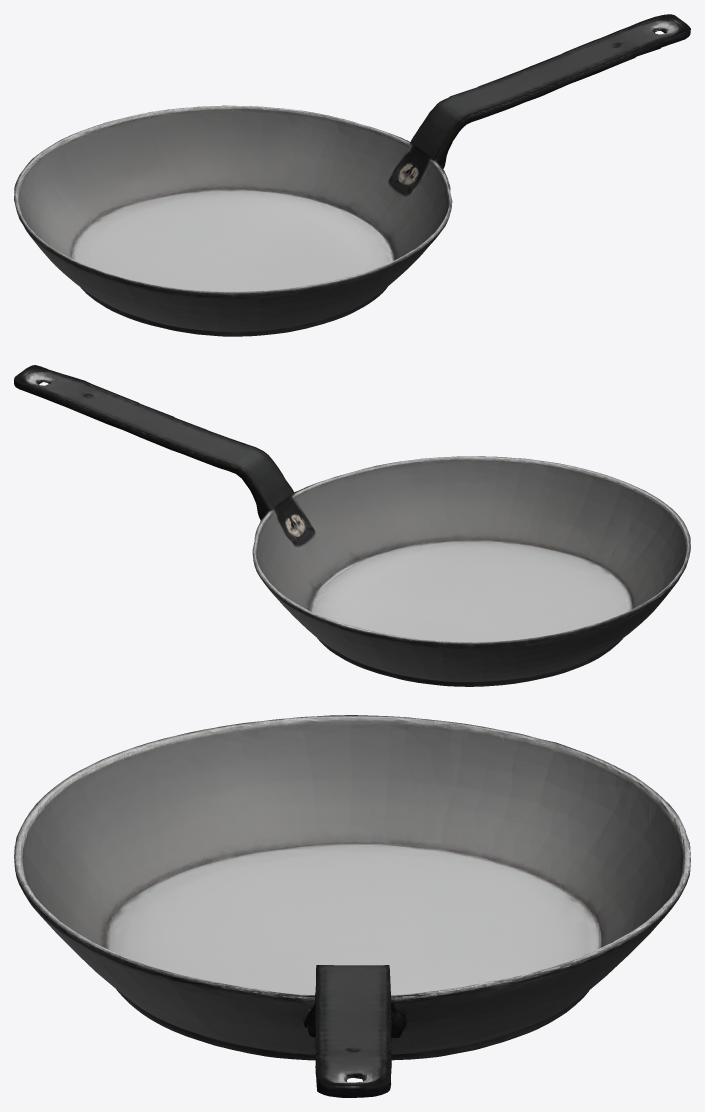
Rendered from pan1.glb.
3 renders of one model, top to bottom at view 1: azimuth 30°, elevation 25°; view 2: azimuth 150°, elevation 25°; view 3: azimuth 270°, elevation 25°, orthographic. The views are drawn at different scales.
Parts seen in each view (by area): view 1: world; view 2: world; view 3: world.
Boxes of the visible parts, x1=… form: world: x1=14, y1=14, x2=690, y2=336; world: x1=14, y1=365, x2=690, y2=686; world: x1=14, y1=715, x2=690, y2=1097.
Size of the model in its own units: 0.9999 by 0.2059 by 0.6005.
Materials: 1 (1 with a texture image).
